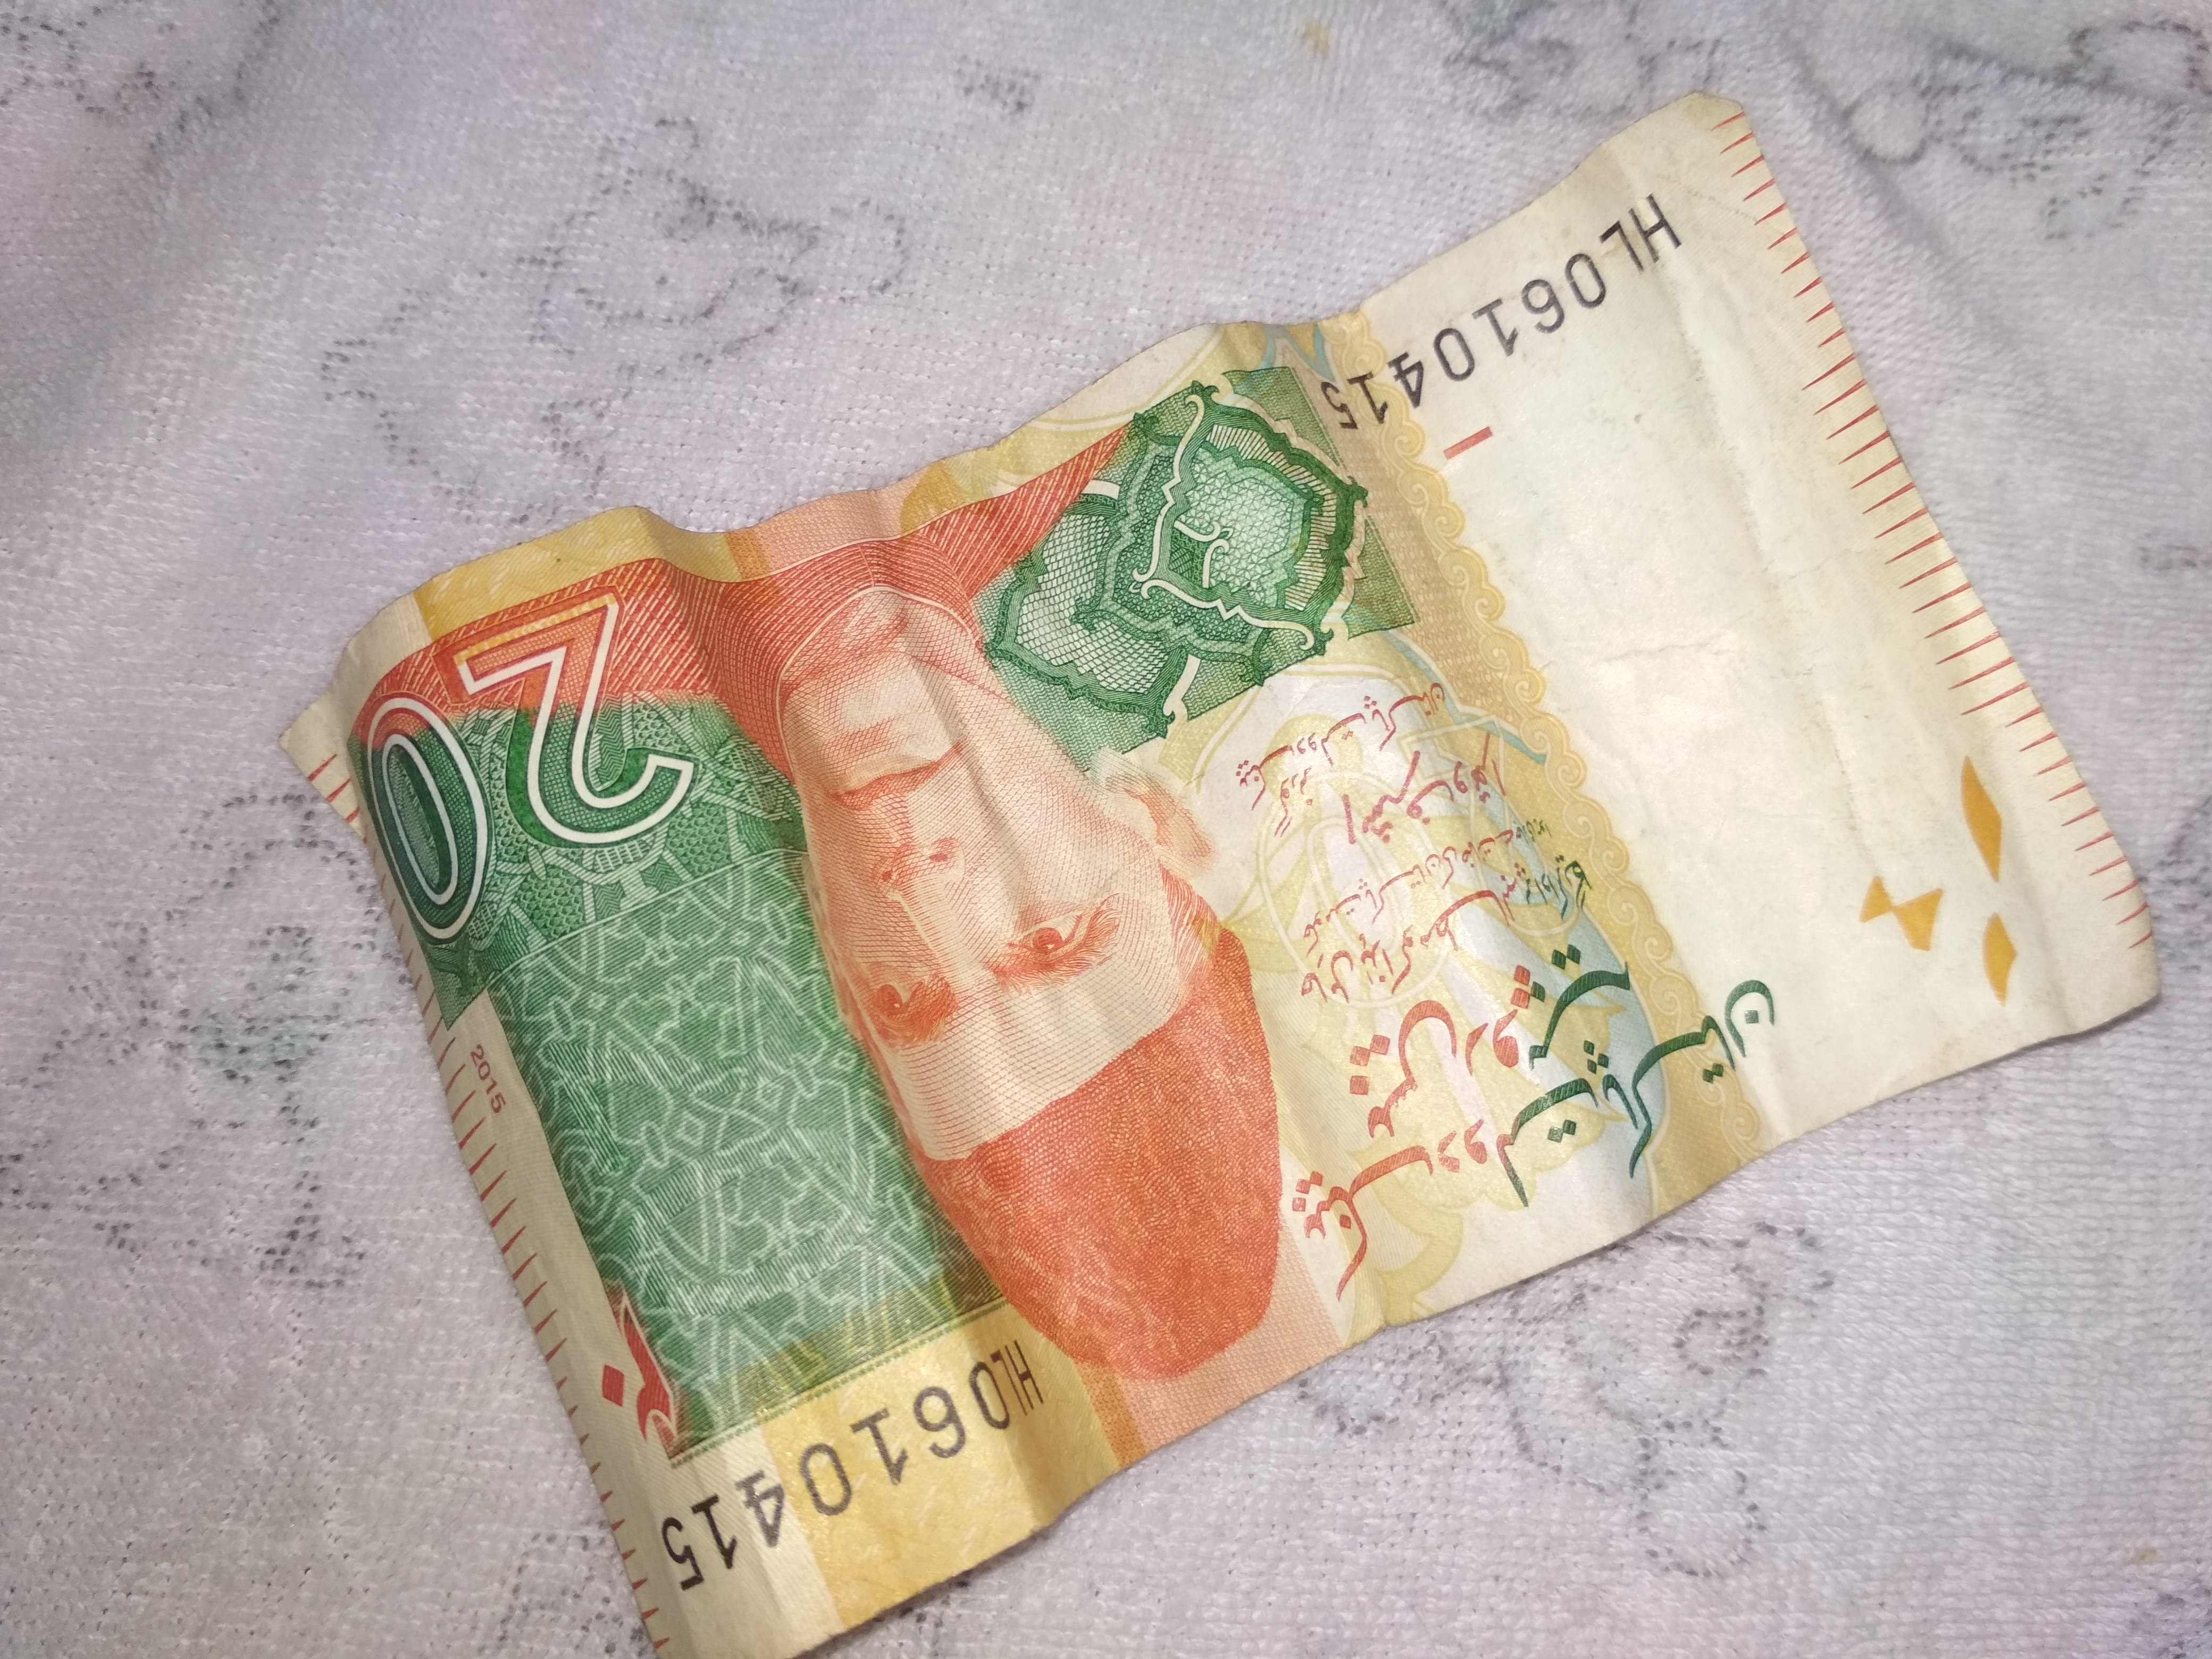20 rupee: (256, 134, 2137, 1603)
